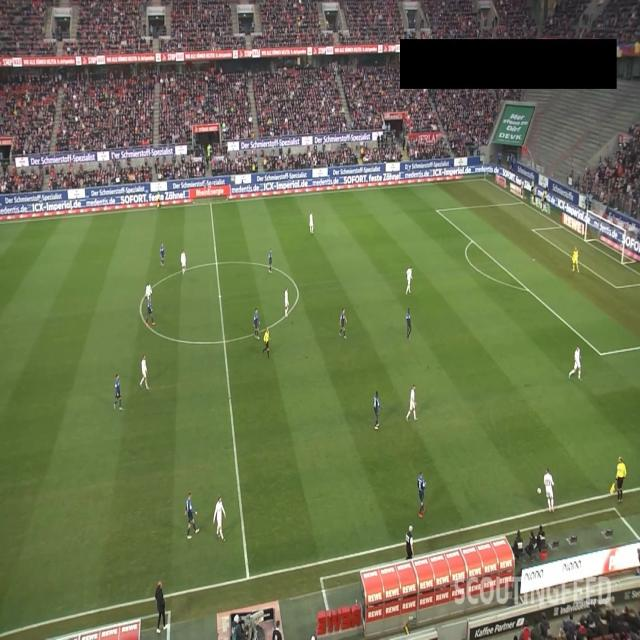ball: (536, 487, 542, 495)
